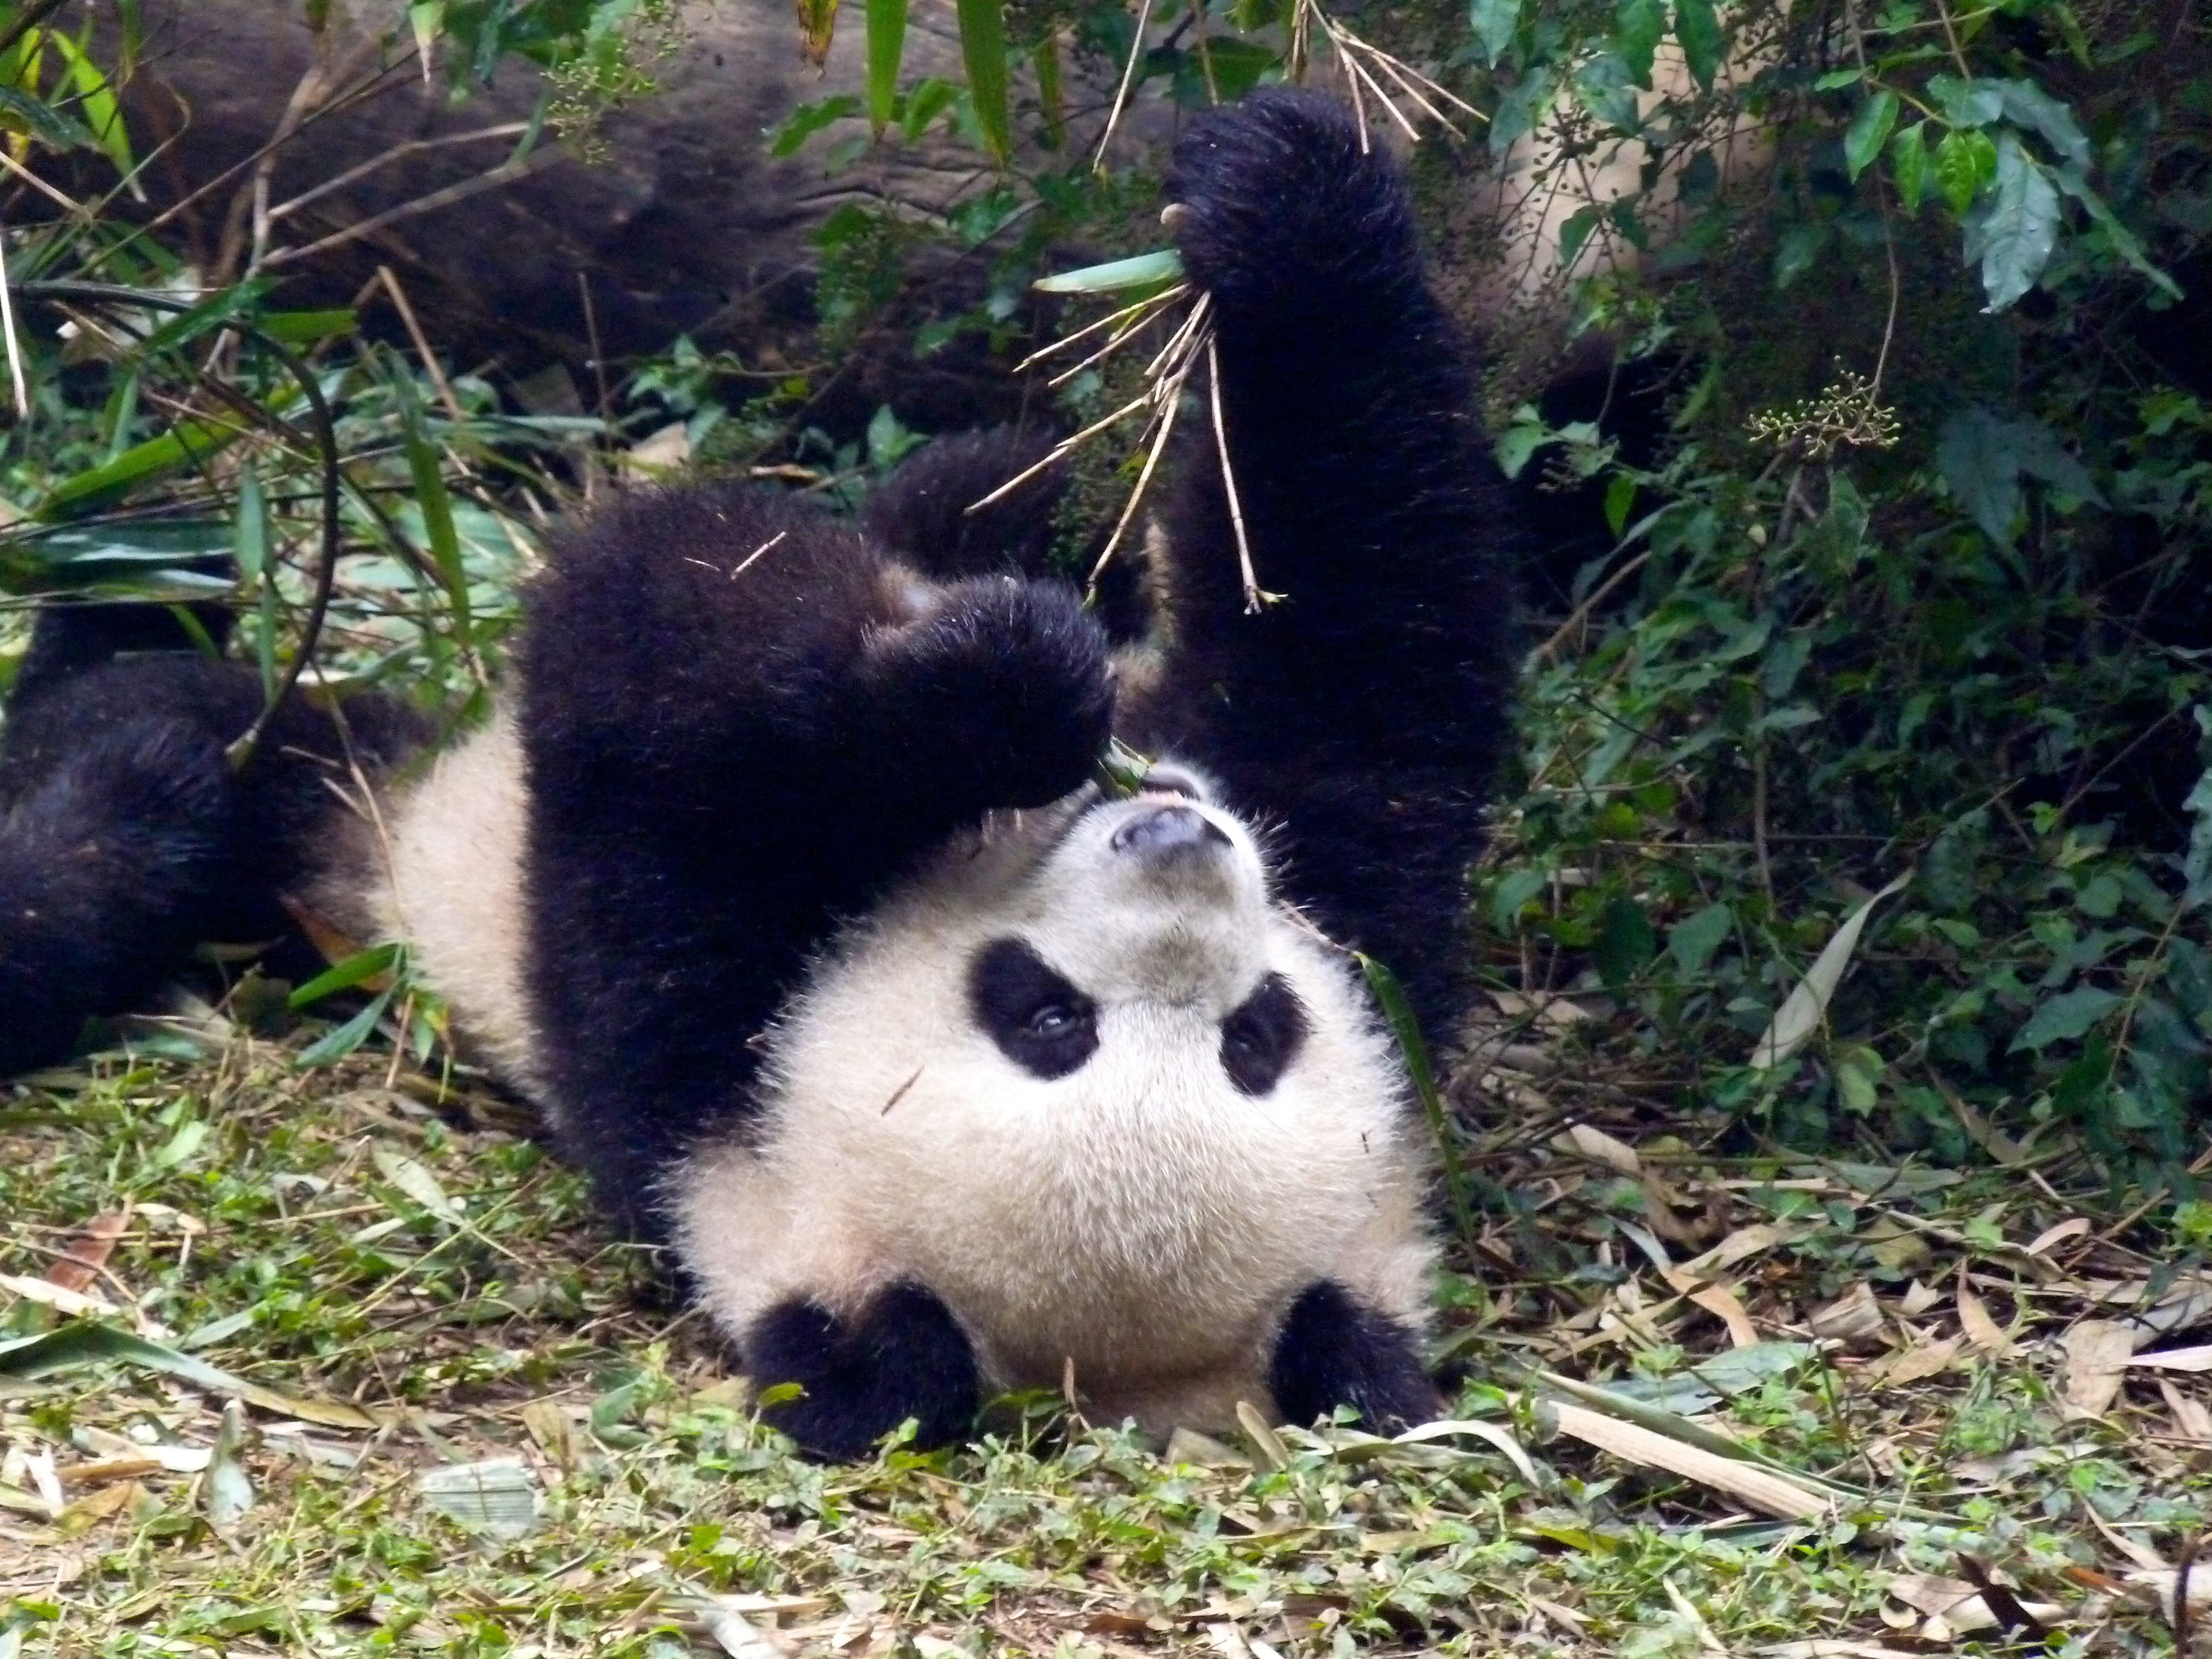panda: (148, 56, 1665, 1464)
